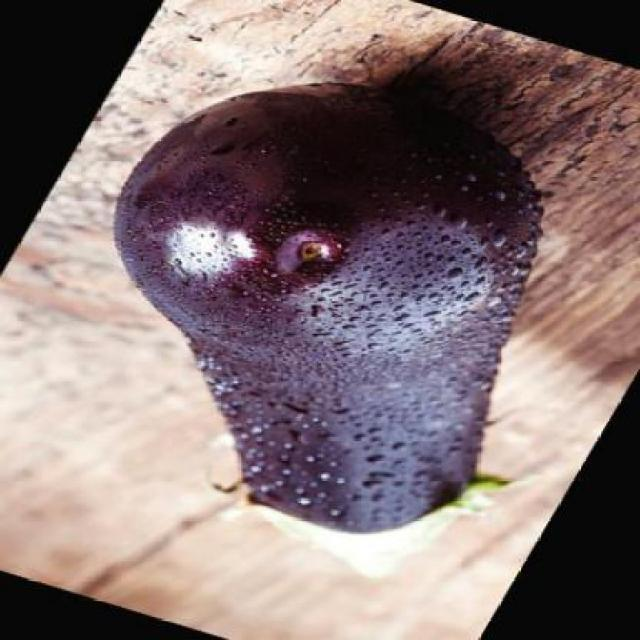eggplant: (108, 72, 550, 536)
